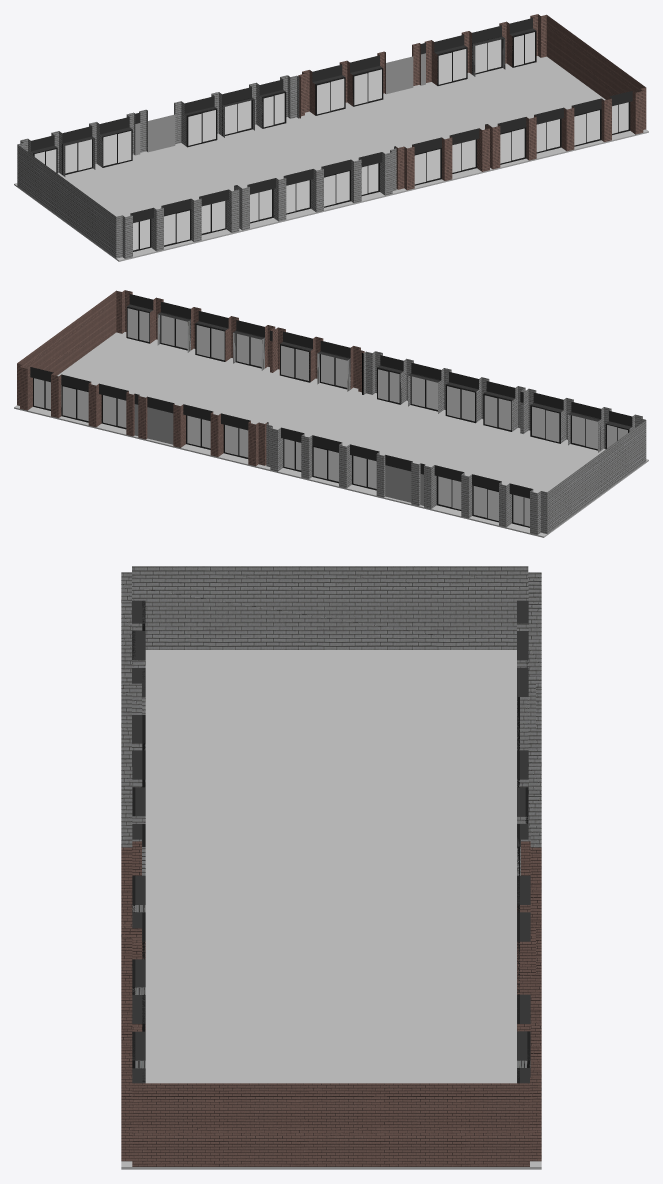
The model's file is MSH_Piso_3.FBX.
3 views of the same model, one above another, from view 1: azimuth 30°, elevation 25°; view 2: azimuth 150°, elevation 25°; view 3: azimuth 270°, elevation 25° (orthographic). The views are drawn at different scales.
Visible parts, largest first — view 1: MSH_Piso_3; view 2: MSH_Piso_3; view 3: MSH_Piso_3.
Boxes of the visible parts, left/top/right/bottom form: MSH_Piso_3: left=14, top=14, right=648, bottom=261; MSH_Piso_3: left=14, top=290, right=648, bottom=537; MSH_Piso_3: left=121, top=566, right=541, bottom=1169.
Bounding box in the file's own units: 4244 × 330 × 1458.
